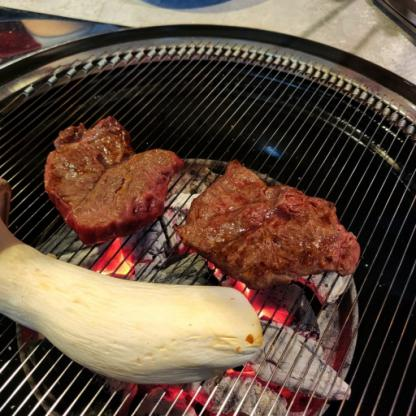Carne: (174, 160, 363, 292), (42, 123, 180, 238)
